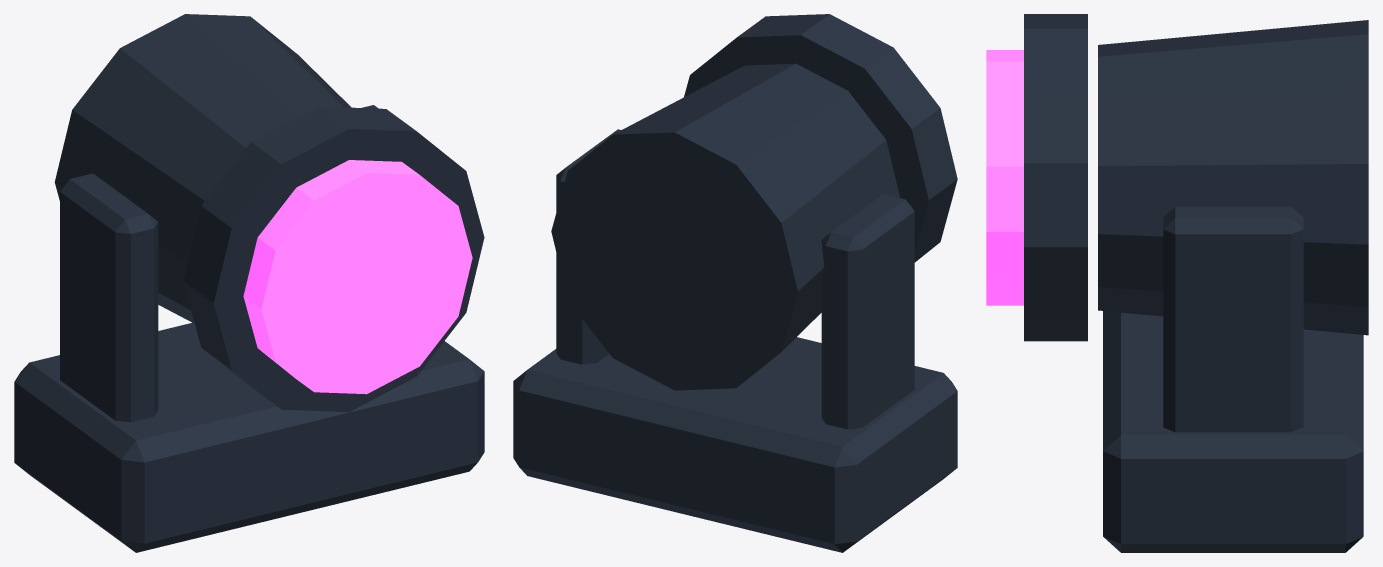
The model's file is light_spot.glb.
The picture shows the model from 3 angles, left to right: view 1: azimuth 30°, elevation 25°; view 2: azimuth 150°, elevation 25°; view 3: azimuth 270°, elevation 25°; orthographic projection. The views are drawn at different scales.
Parts seen in each view (by area): view 1: Anel, PAULI_SPOT_LENS; view 2: Anel; view 3: Anel, PAULI_SPOT_LENS.
Boxes of the visible parts, left/top/right/bottom form: Anel: left=14, top=14, right=484, bottom=552; PAULI_SPOT_LENS: left=243, top=160, right=472, bottom=394; Anel: left=513, top=14, right=957, bottom=552; Anel: left=1024, top=14, right=1368, bottom=552; PAULI_SPOT_LENS: left=986, top=50, right=1023, bottom=305.
Bounding box in the file's own units: 0.44 × 0.483 × 0.3815.
